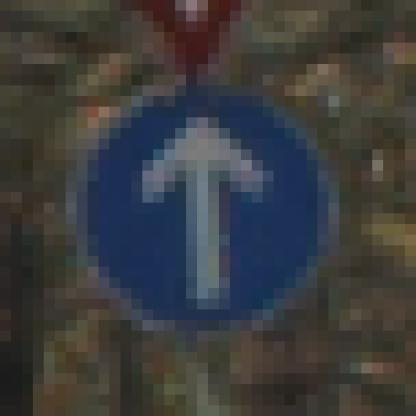AheadOnly: (56, 65, 362, 364)
